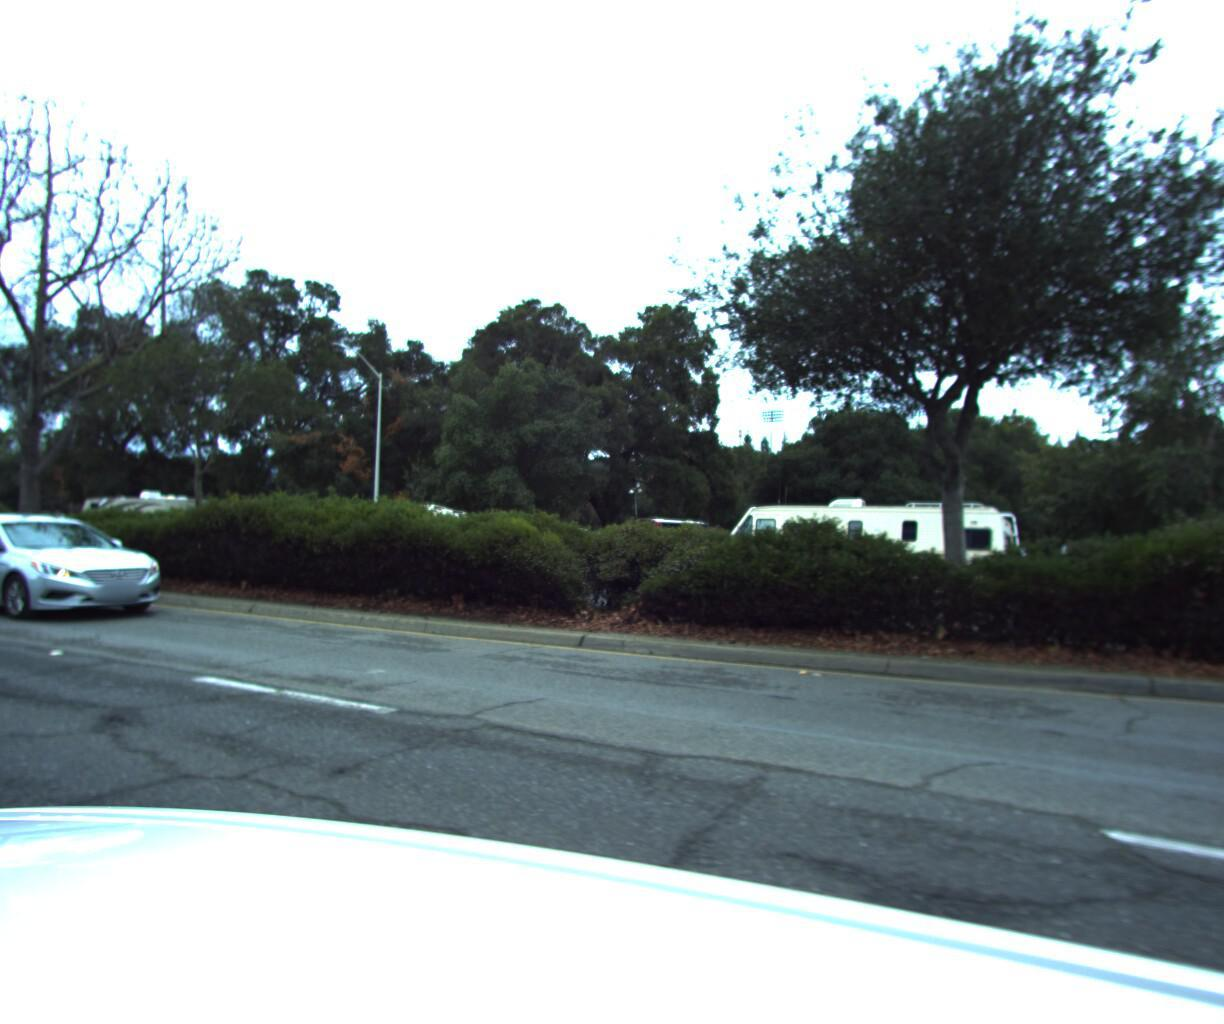car: (0, 508, 167, 625)
other_vehicle: (710, 490, 1031, 616), (326, 497, 478, 571), (70, 482, 221, 544)
